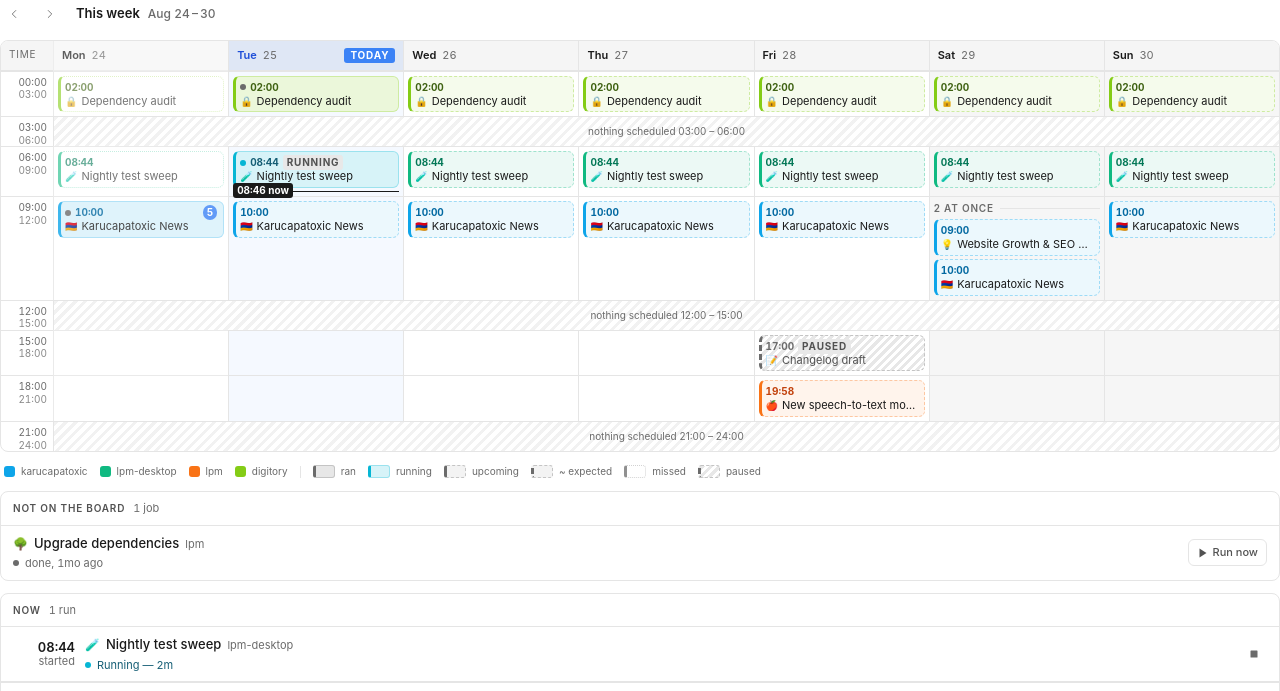
it: ScheduleWeekView › steps to another week without losing the board
The width and height of the screenshot is (1280, 691).
Click the button named "Next week": (50, 14) [36, 0, 64, 28]
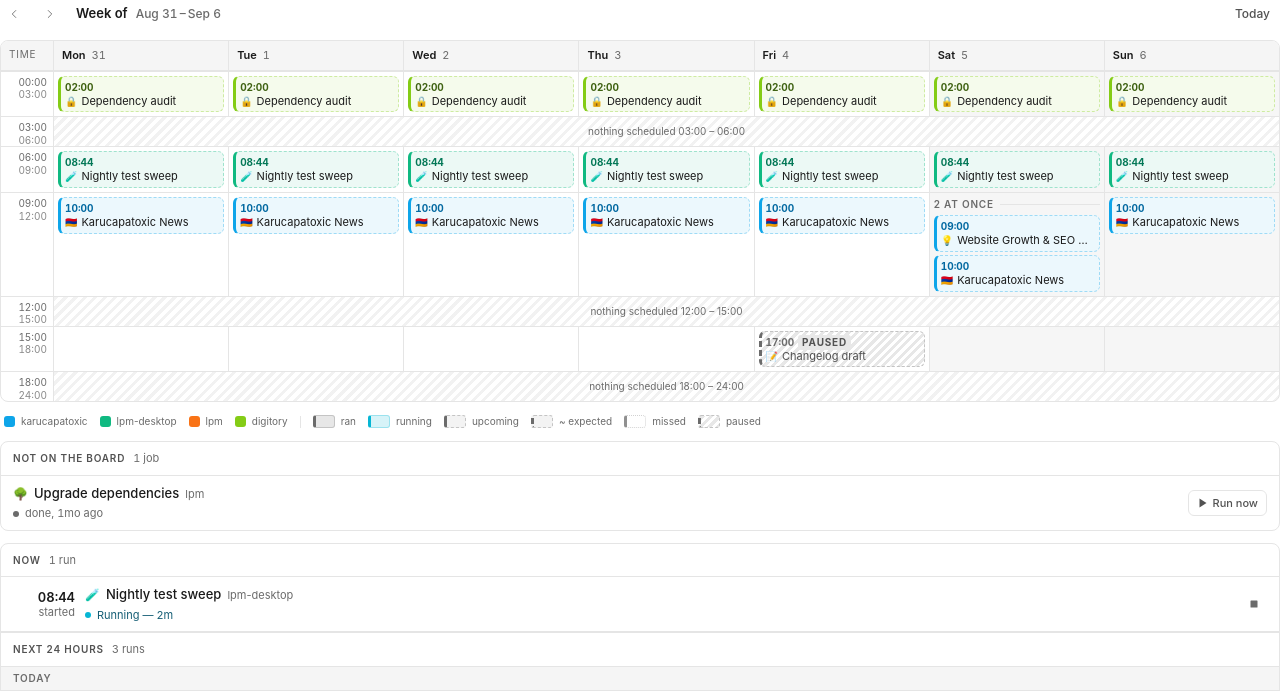
Expected: the button named "Previous week" is shown, [0, 0, 28, 28]
Expected: the text "Week of" is shown, [76, 5, 128, 21]
